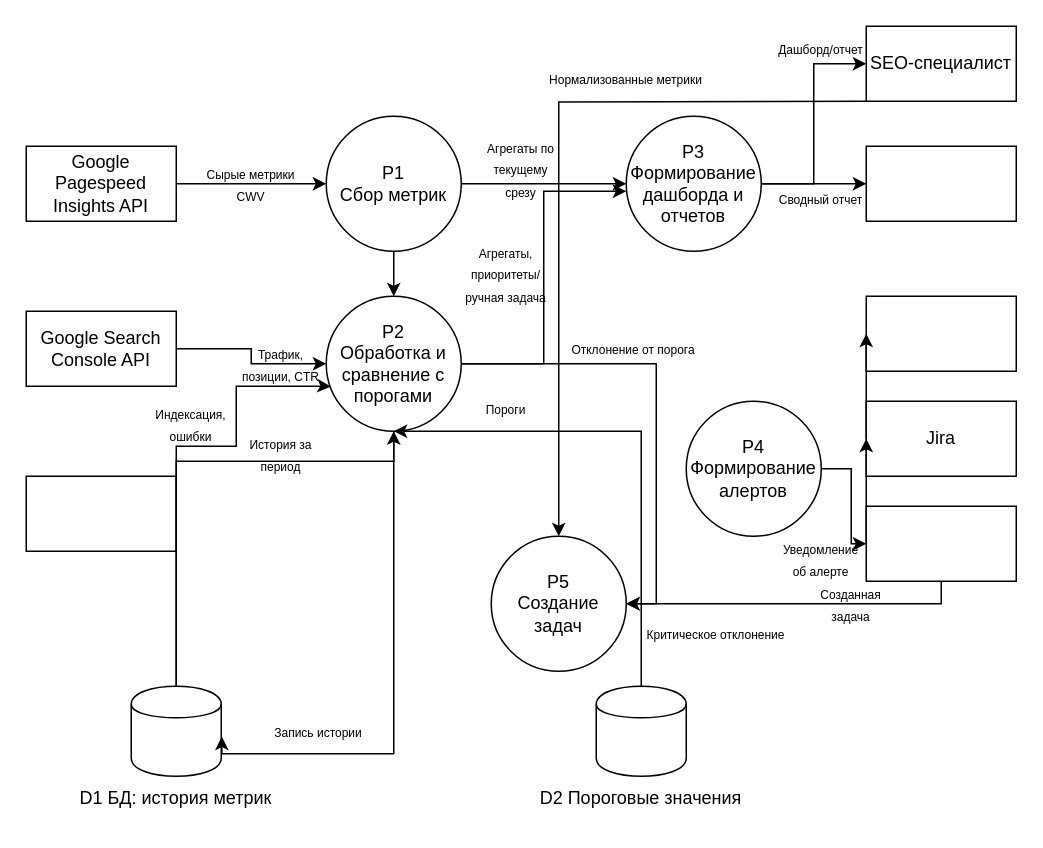
The diagram is 1043 pixels wide and 848 high, and some of its shapes have lost their labels. Each missing label, with the centre of its shape:
"email/Телеграм" goes at point (940, 543).
"Маркетинг-директор" goes at point (940, 183).
"Разработчик" goes at point (940, 333).
"Яндекс. Вебмастер API" goes at point (100, 513).
